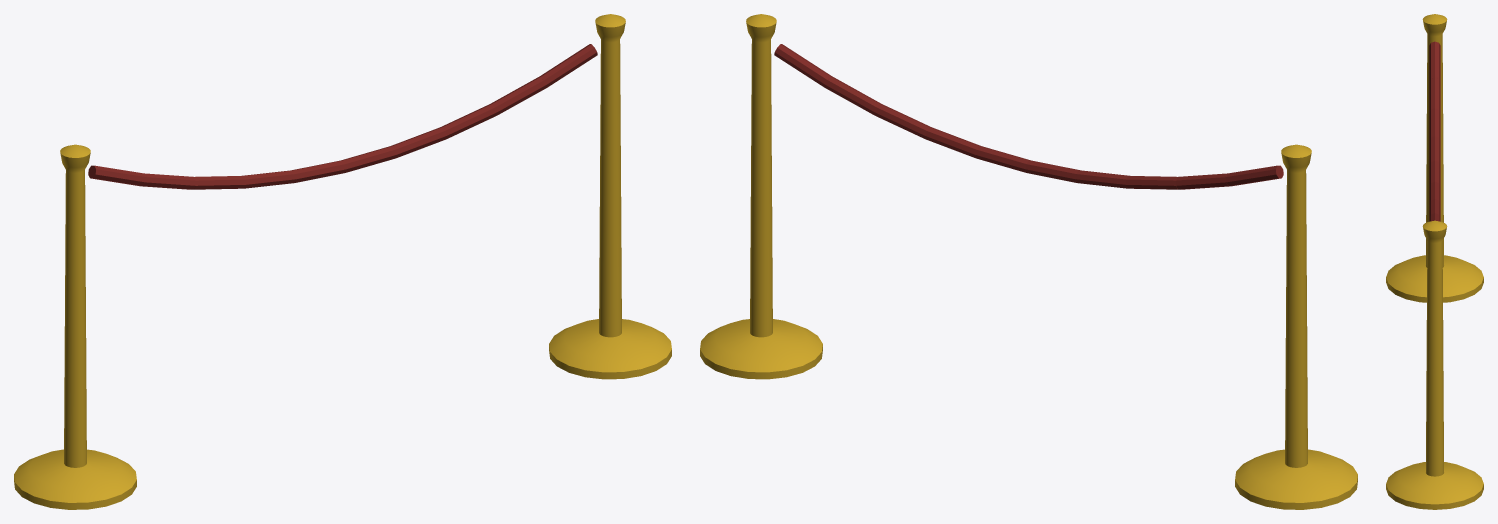
The model's file is prop_queue_post.glb.
3 views of the same model, side by side, from view 1: azimuth 30°, elevation 25°; view 2: azimuth 150°, elevation 25°; view 3: azimuth 270°, elevation 25° (orthographic). The views are drawn at different scales.
Parts seen in each view (by area): view 1: Stanchions; view 2: Stanchions; view 3: Stanchions.
Boxes of the visible parts, x1,y1,x2,y2 form: Stanchions: (14,14,671,509); Stanchions: (700,14,1357,509); Stanchions: (1386,14,1483,509).
Size of what is drawn, in the model's own units: 1.92 by 0.97 by 0.32.
